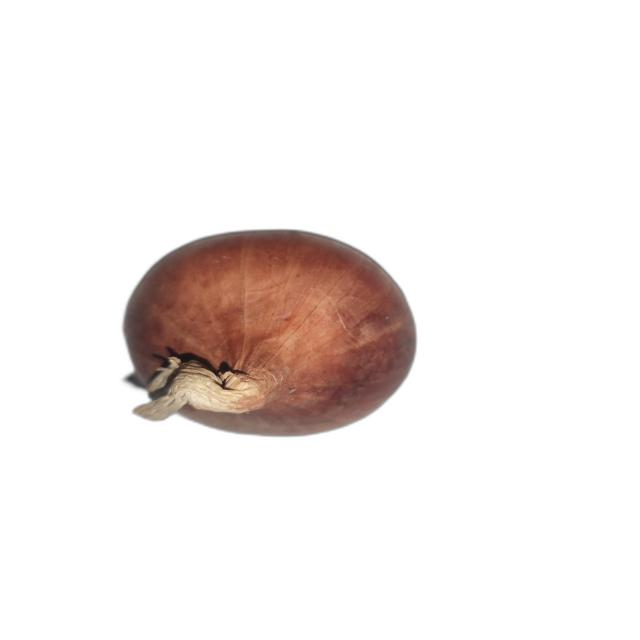onion: (121, 229, 419, 439)
